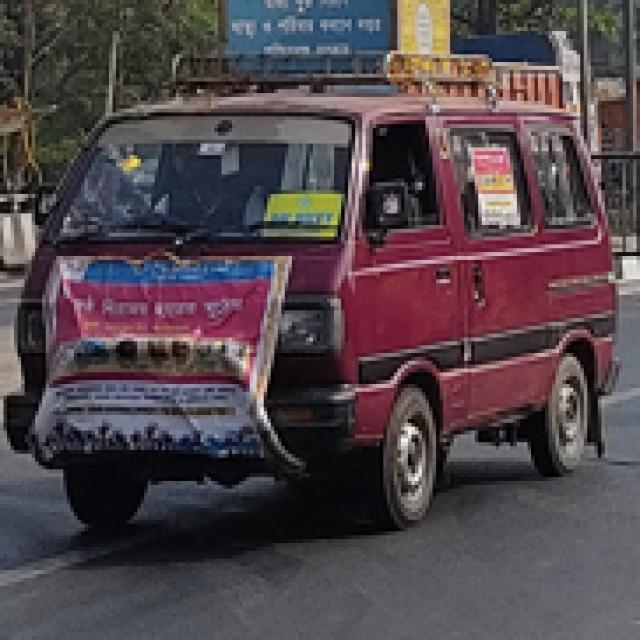van: (14, 44, 614, 559)
